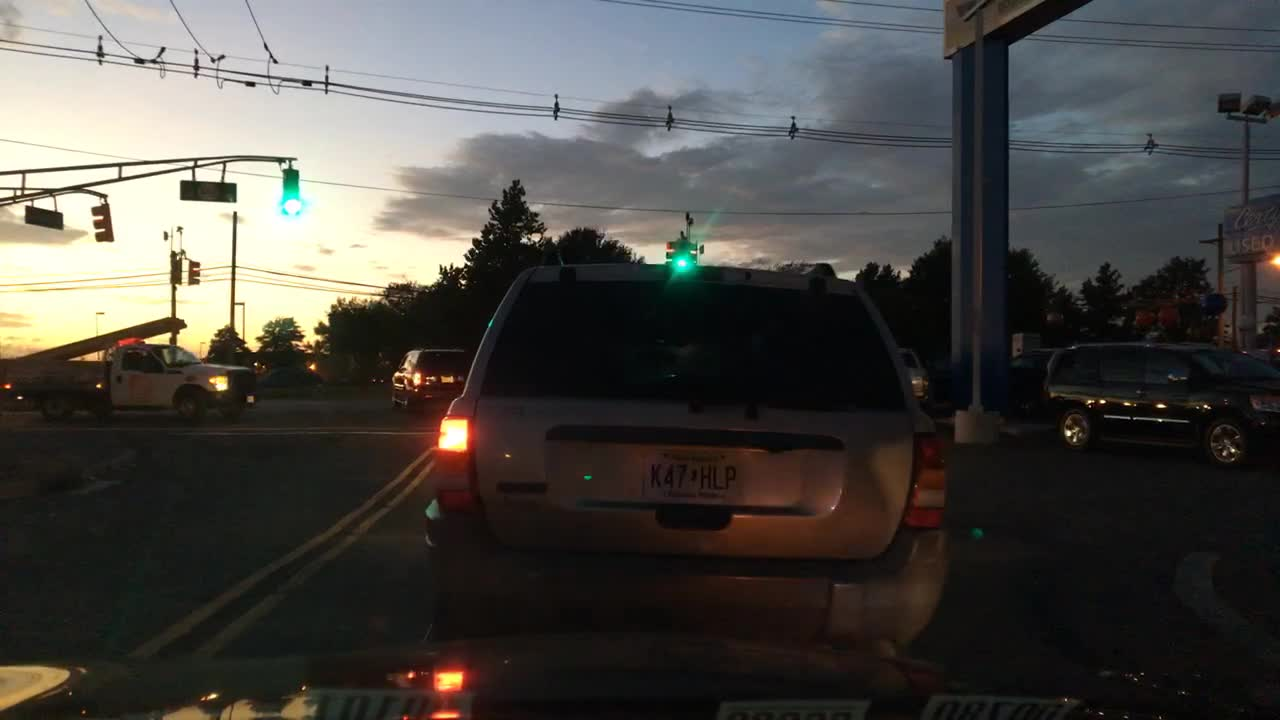car: (416, 257, 958, 666), (1035, 338, 1278, 471), (384, 347, 475, 414), (1006, 347, 1060, 424), (893, 343, 932, 410), (253, 362, 323, 389)
traffic light: (86, 202, 116, 242), (279, 167, 301, 214), (675, 241, 690, 267), (167, 257, 182, 282), (665, 238, 676, 268), (688, 241, 701, 266), (187, 259, 200, 284)
traffic sign: (178, 178, 238, 202), (22, 202, 66, 229)
truck: (0, 312, 257, 428)
